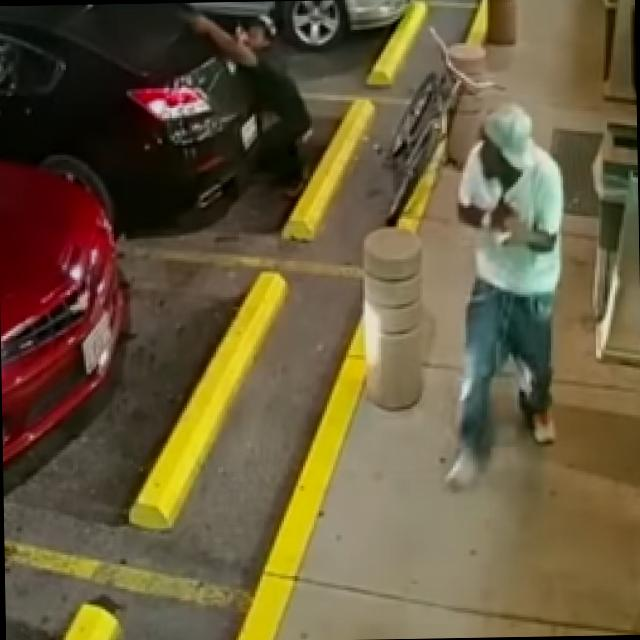person: (439, 103, 568, 490), (185, 10, 312, 200)
